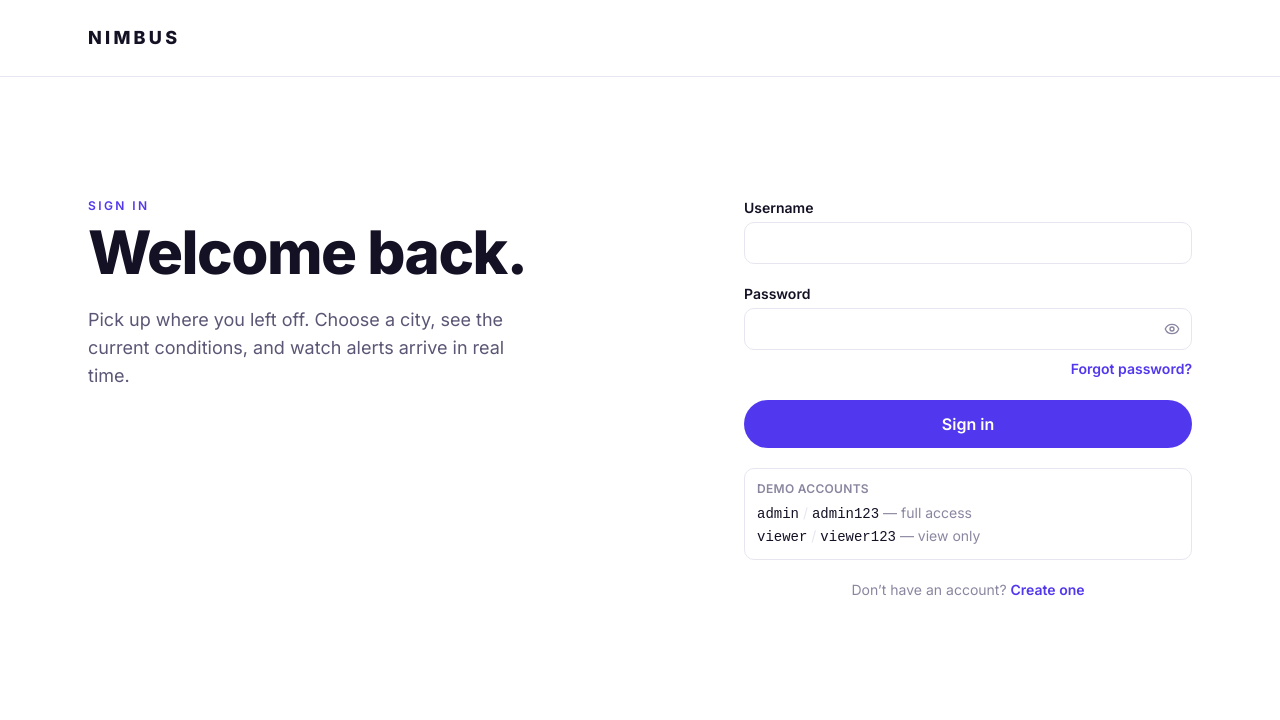
Test case: LoginPage › shows "Please fill in both fields." on a 400
Type "demo" into the field labelled "Username" at [968, 242], box [744, 222, 1192, 264]
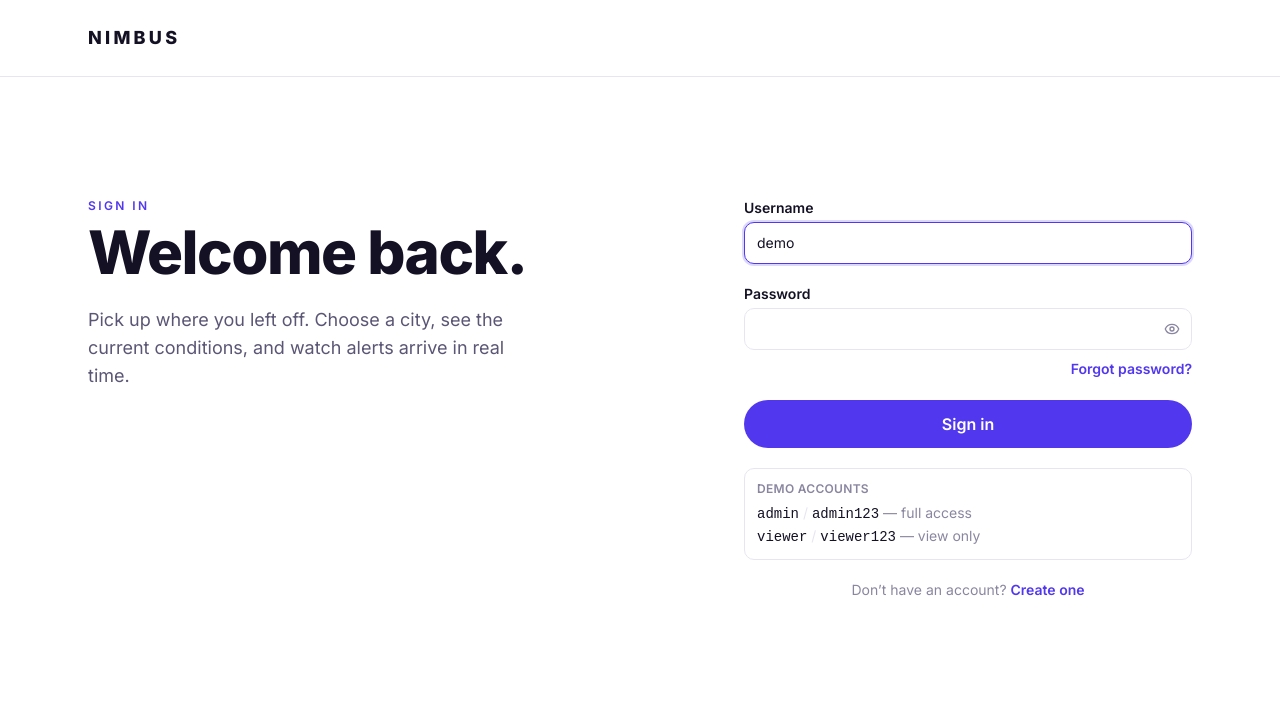
Type "demo" into the password field labelled "Password" at [968, 328], box [744, 308, 1192, 350]
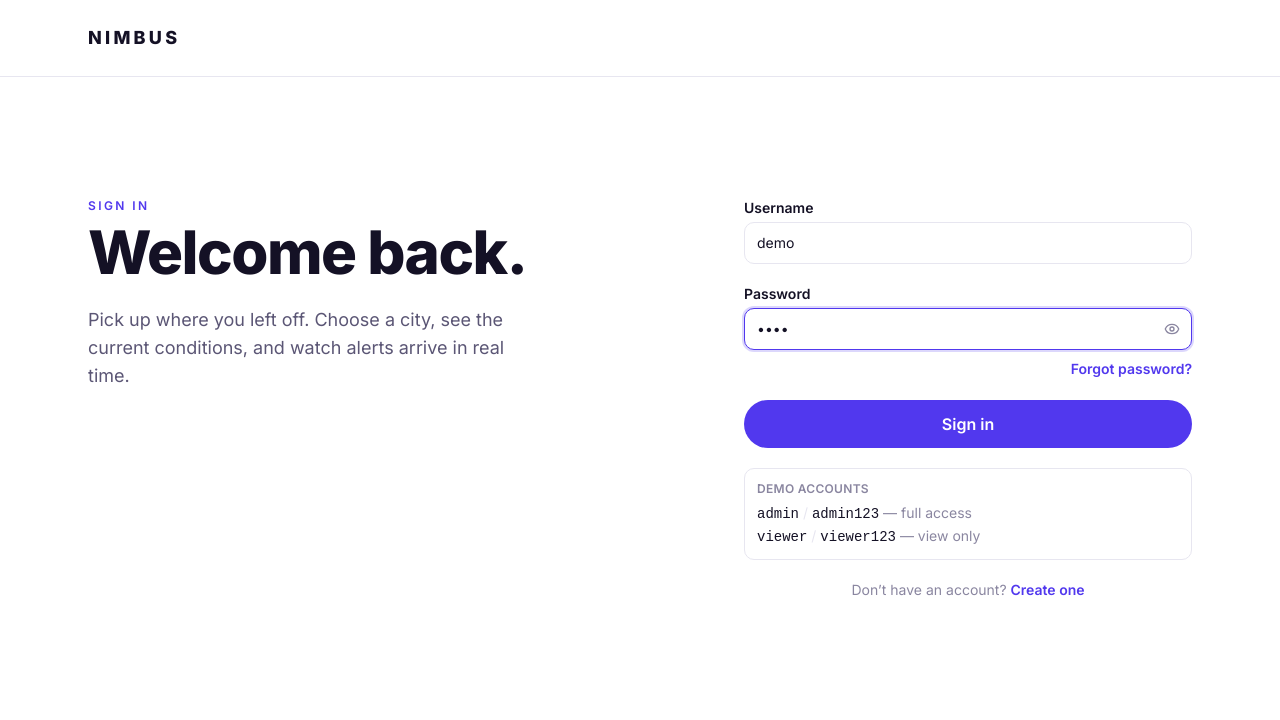
Click the button "Sign in" at [968, 424], box [744, 400, 1192, 448]
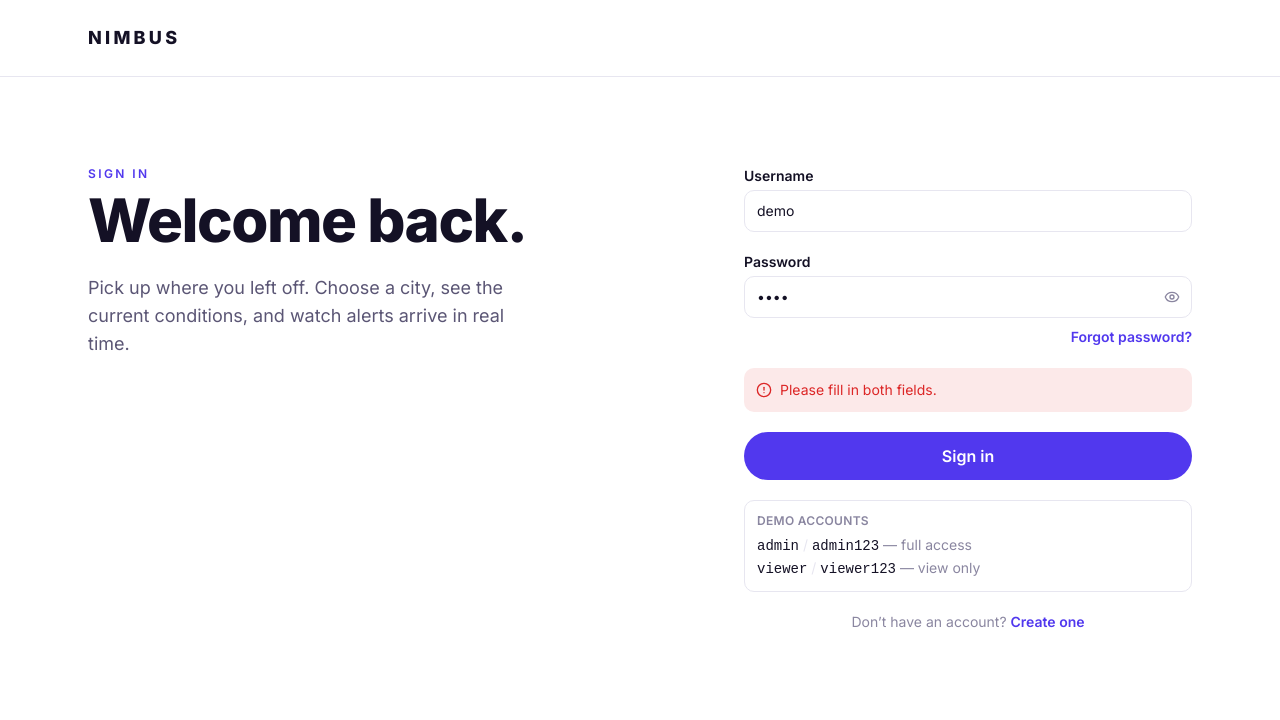
Check: the message shows "Please fill in both fields", box [780, 380, 937, 398]
